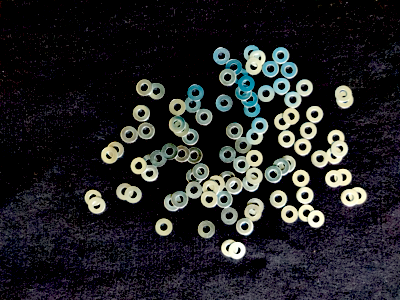circle: (115, 182, 134, 202), (225, 121, 244, 141), (211, 47, 231, 66), (133, 103, 152, 122), (149, 149, 168, 168), (215, 93, 234, 112), (251, 116, 270, 135), (258, 85, 277, 104), (349, 186, 368, 205), (168, 97, 186, 117), (208, 174, 226, 194), (219, 144, 237, 164), (107, 140, 125, 159), (83, 189, 102, 207), (135, 78, 153, 97), (148, 81, 166, 100), (140, 165, 159, 183), (183, 96, 202, 114), (156, 218, 174, 237), (243, 100, 262, 118), (246, 128, 264, 147), (233, 155, 251, 174), (246, 150, 265, 168), (198, 220, 216, 239), (247, 197, 265, 216), (221, 239, 239, 258), (272, 46, 290, 65), (273, 78, 292, 96), (334, 84, 353, 102), (306, 105, 324, 124), (299, 122, 318, 140), (277, 130, 296, 148), (311, 150, 329, 169), (298, 205, 317, 223), (137, 123, 157, 140), (243, 174, 260, 194), (245, 168, 265, 185), (335, 92, 355, 109), (270, 190, 287, 210), (308, 209, 325, 229), (125, 186, 143, 204), (168, 115, 186, 133), (186, 168, 204, 186), (196, 108, 214, 126), (219, 69, 237, 87), (235, 137, 253, 155), (236, 218, 254, 236), (296, 79, 314, 97), (334, 168, 352, 186), (193, 163, 210, 182), (172, 189, 189, 208), (184, 182, 203, 199), (219, 170, 236, 189), (221, 207, 238, 226), (229, 241, 246, 260), (283, 91, 302, 108), (278, 155, 297, 172), (281, 205, 298, 224), (296, 187, 315, 204), (342, 189, 359, 208), (99, 148, 119, 164), (131, 155, 147, 175), (187, 146, 203, 166), (164, 193, 180, 213), (88, 197, 106, 214), (120, 126, 137, 144), (141, 155, 159, 172), (161, 143, 179, 160), (188, 84, 205, 102), (232, 67, 249, 85), (235, 83, 253, 100), (241, 90, 259, 107), (216, 192, 234, 209), (244, 205, 262, 222), (245, 58, 262, 76), (262, 60, 279, 78), (274, 113, 291, 131), (294, 139, 312, 156), (272, 158, 290, 175), (293, 170, 311, 187), (331, 141, 349, 158), (327, 130, 345, 147), (325, 170, 342, 188), (201, 191, 218, 208), (226, 178, 243, 195), (243, 44, 260, 61), (281, 61, 298, 78), (182, 128, 200, 144), (172, 121, 190, 137), (225, 59, 243, 75), (265, 166, 281, 184), (326, 149, 344, 165), (238, 75, 255, 91), (249, 49, 265, 66), (283, 109, 300, 125), (203, 181, 220, 196), (175, 146, 189, 163)
